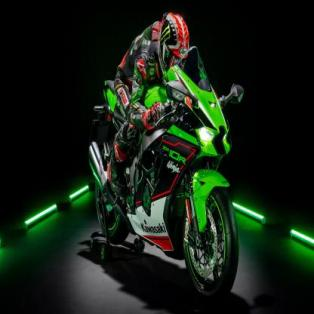Motocicleta: (92, 59, 245, 300)
